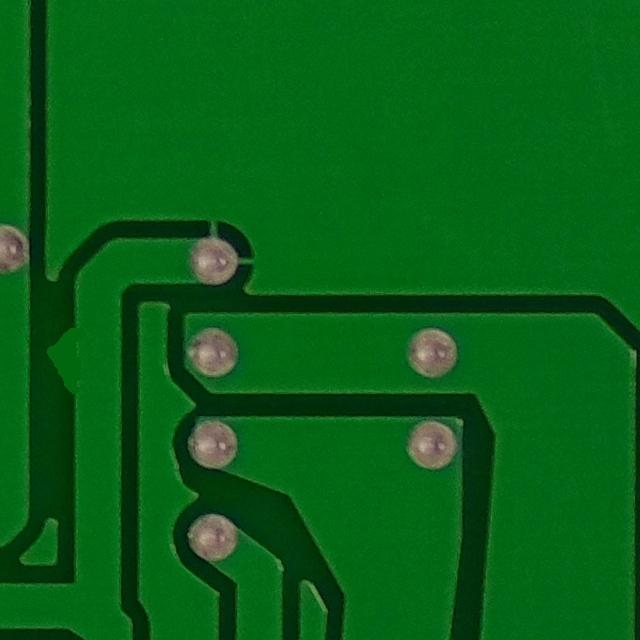spur: (41, 306, 99, 417)
